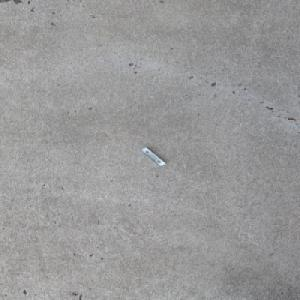ClampPart: (138, 146, 167, 166)
